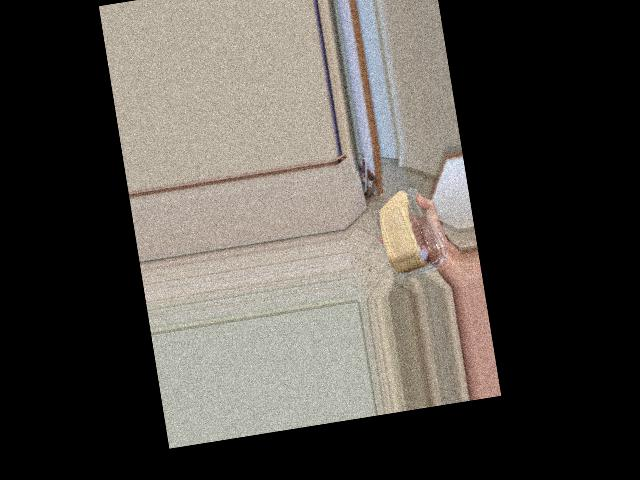cheese: (385, 204, 434, 284)
